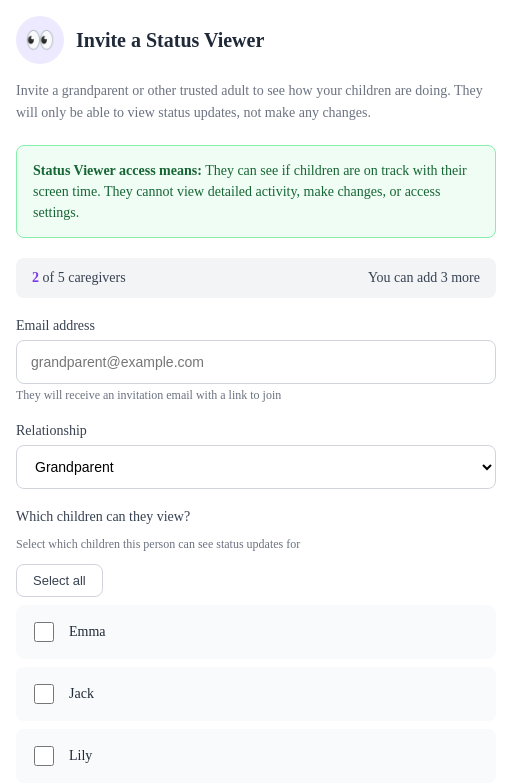
it: CaregiverInviteForm › Child Selection (AC5) › select all button deselects all when all are selected
Select all
What coordinates should you click on to do the following:
click the button with test id "select-all-button"
I would click on:
 (59, 580)
Its box is [16,564,103,597].
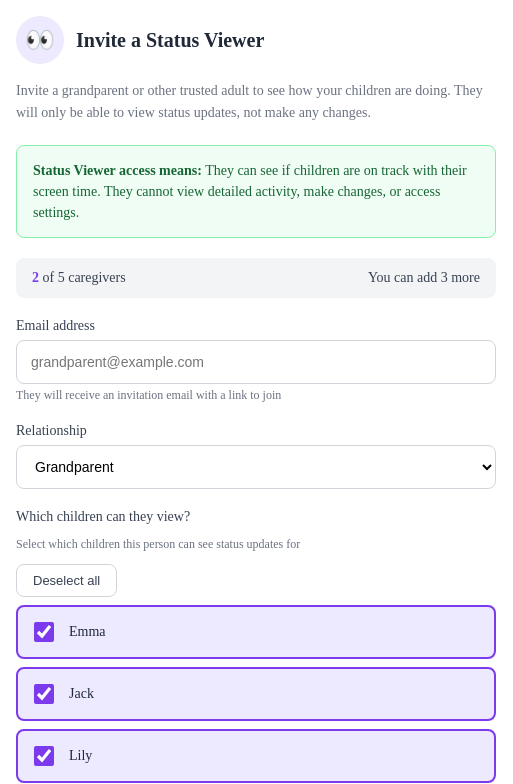
Expected: the checkbox with test id "child-checkbox-child-1" is checked, [34,622,54,642]
Deselect all
What coordinates should you click on to do the following:
click the button with test id "select-all-button"
I would click on:
 (67, 580)
Its box is [16,564,117,597].
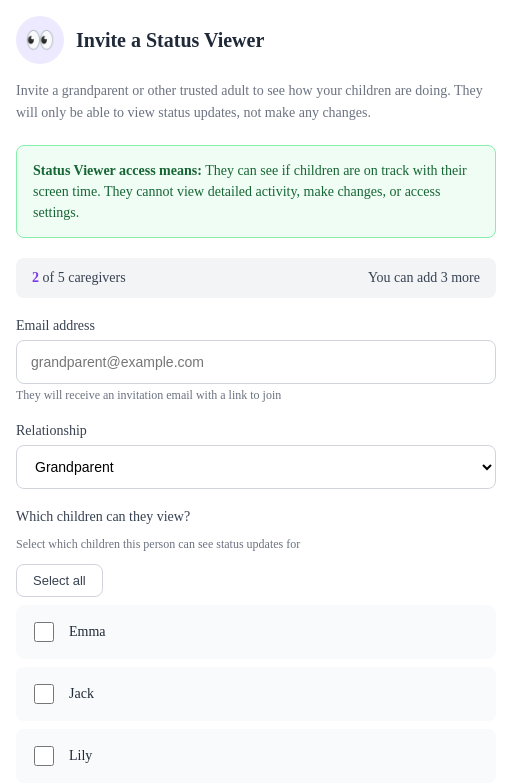
Expected: the checkbox with test id "child-checkbox-child-1" is not checked, [34,622,54,642]
